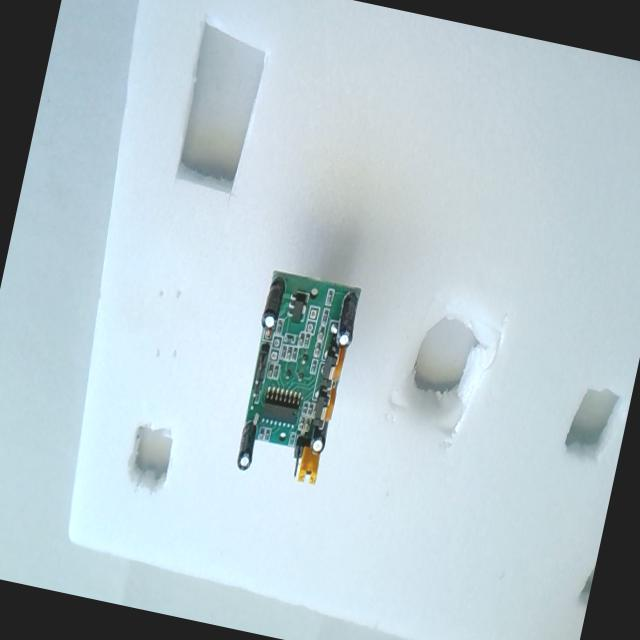Electrolytic capacitor: (334, 288, 362, 346), (260, 274, 286, 330), (234, 419, 259, 473), (308, 420, 329, 456)
IC: (260, 386, 302, 422)
pinheader: (242, 339, 278, 410)
